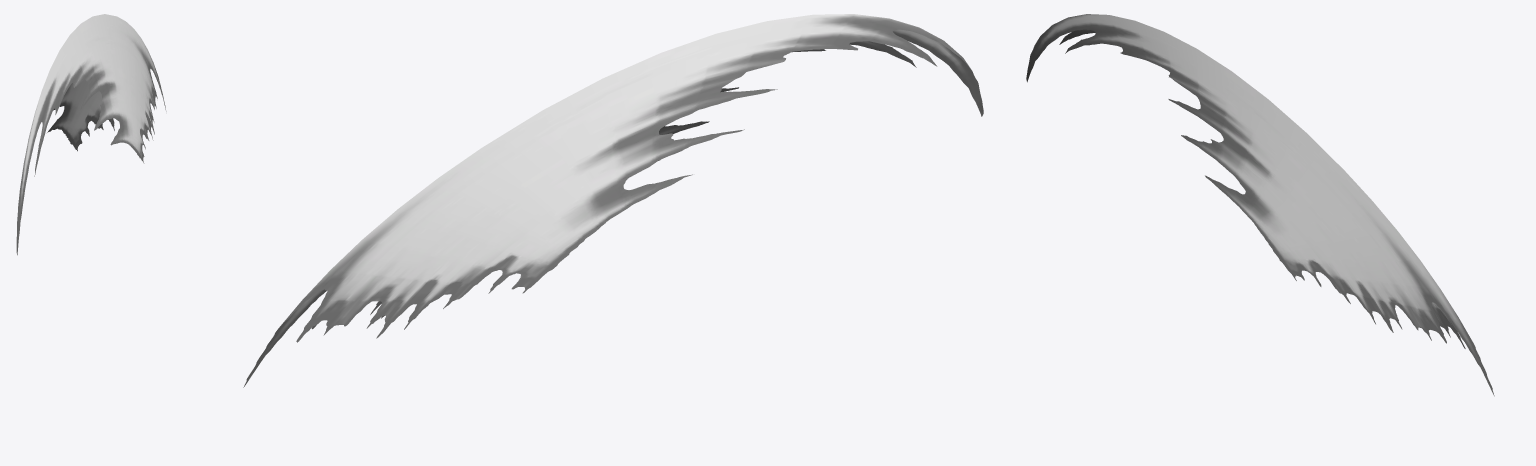
The model's file is fx_cookie0135_skill01.fbx.
3 renders of one model, left to right at view 1: azimuth 30°, elevation 25°; view 2: azimuth 150°, elevation 25°; view 3: azimuth 270°, elevation 25°, orthographic. The views are drawn at different scales.
Parts seen in each view (by area): view 1: L_scratch2; view 2: L_scratch2; view 3: L_scratch2.
Part boxes in pixels (<box>): L_scratch2: <box>16,14,166,255</box>; L_scratch2: <box>243,14,983,387</box>; L_scratch2: <box>1026,14,1494,396</box>.
Size of the model in its own units: 531 by 455 by 592.
1 material, 1 textured.
